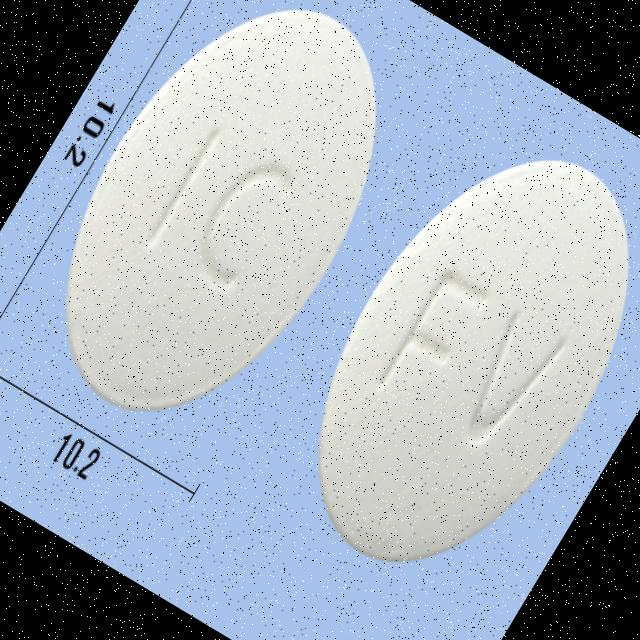Famviro: (4, 0, 443, 460), (254, 105, 640, 617)
